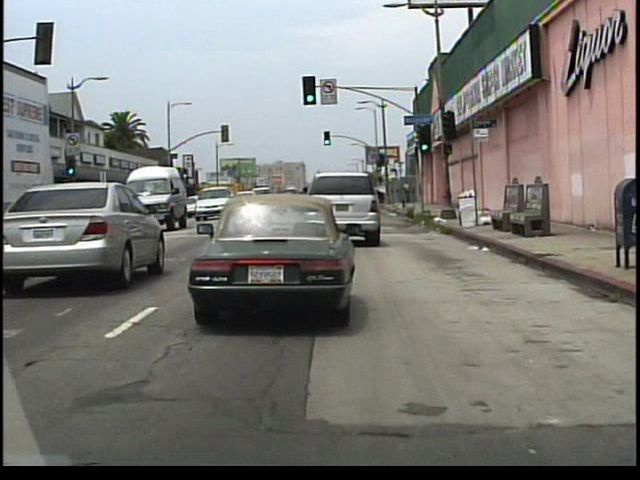person: (403, 179, 413, 204)
